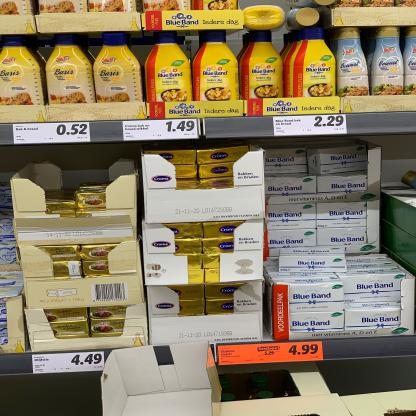prtg: (219, 342, 324, 366), (123, 120, 199, 142), (14, 124, 92, 145), (274, 115, 348, 137), (33, 353, 105, 375)
